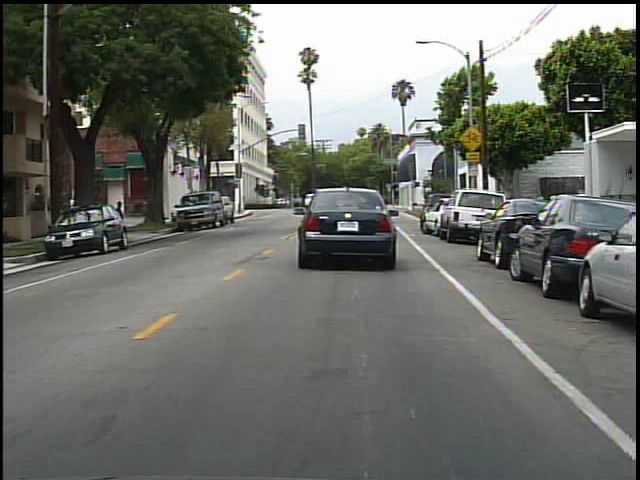person: (111, 196, 131, 242)
